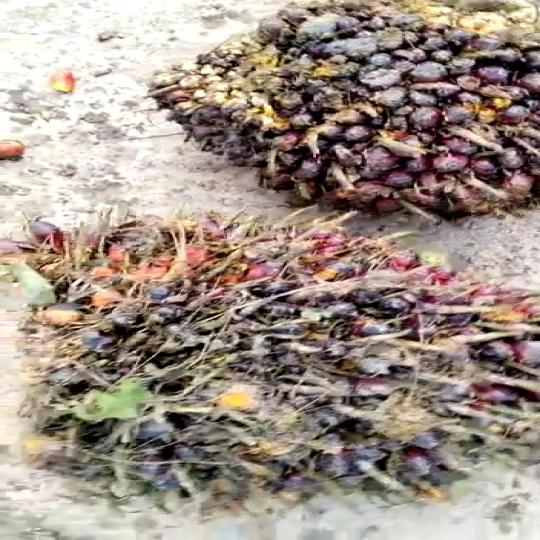kurang masak: (0, 205, 540, 519), (115, 0, 540, 230)
